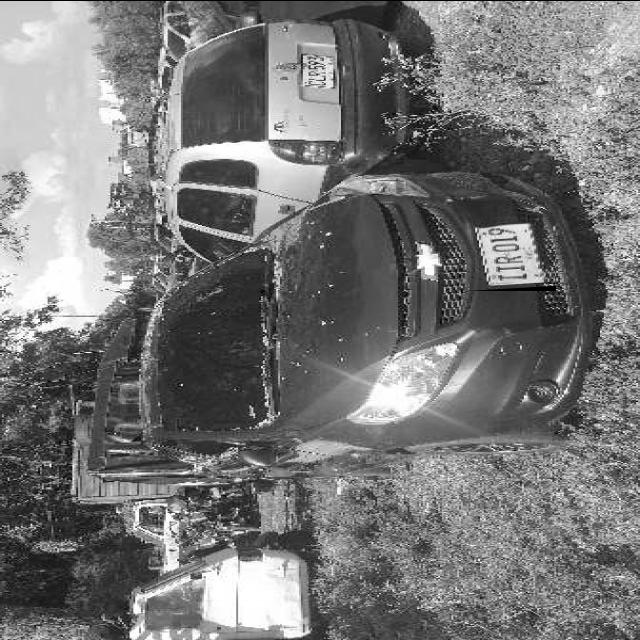plate: (468, 221, 556, 288)
